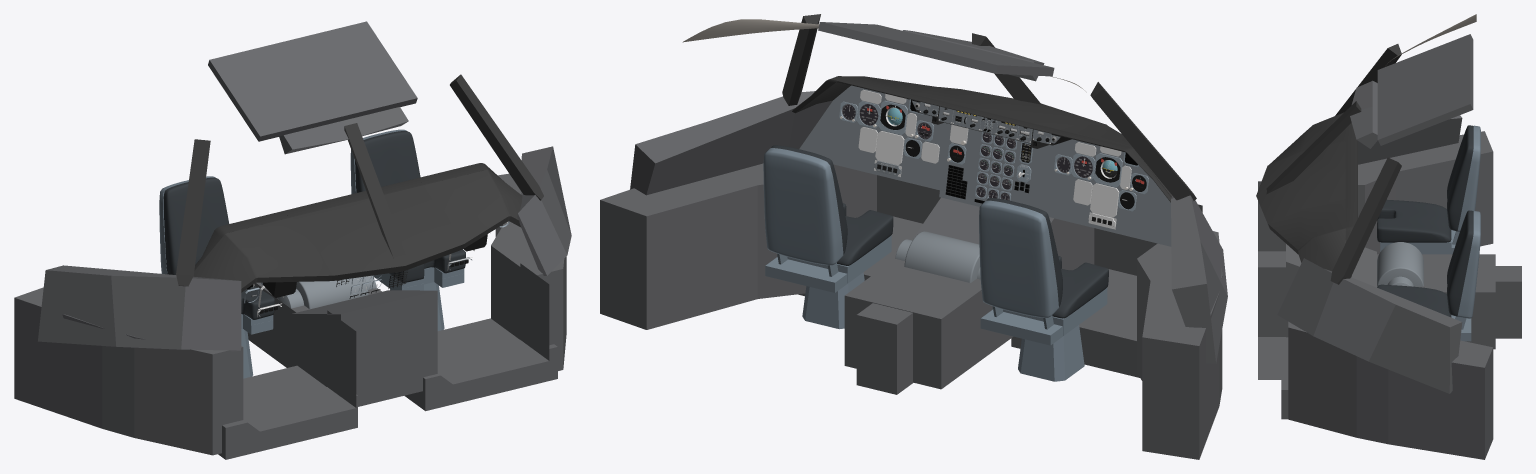
Rendered from L1011-100_Interior_01.gltf.
The picture shows the model from 3 angles, left to right: view 1: azimuth 30°, elevation 25°; view 2: azimuth 150°, elevation 25°; view 3: azimuth 270°, elevation 25°; orthographic projection. The views are drawn at different scales.
Visible parts, largest first — view 1: Cube.083, Cube.019, Cube.085, Cube.015, Cube.013, Cube.119, Cube.120, Cube.123, Cube.084, Cube.014, Cube.086, Cube.018 (+8 smaller); view 2: Cube.083, Cube.085, Cube.125, Plane.034, Cube.018, Cube.120, Cube.019, Cube.017, Cube.015, Cube.115, Cube.084, Cube.119 (+14 smaller); view 3: Cube.083, Cube.085, Cube.019, Cube.015, Cube.120, Cube.126, Cube.084, Cube.123, Cube.018, Cube.125, Cube.017, Cylinder (+9 smaller).
Part boxes in pixels (left/top/right/bottom): Cube.083: left=14, top=173, right=566, bottom=455; Cube.019: left=193, top=170, right=522, bottom=292; Cube.085: left=38, top=146, right=571, bottom=351; Cube.015: left=208, top=21, right=417, bottom=141; Cube.013: left=291, top=290, right=437, bottom=406; Cube.119: left=218, top=318, right=557, bottom=459; Cube.120: left=243, top=263, right=549, bottom=431; Cube.123: left=163, top=131, right=420, bottom=274; Cube.084: left=176, top=74, right=543, bottom=286; Cube.014: left=279, top=107, right=408, bottom=154; Cube.086: left=344, top=123, right=406, bottom=258; Cube.018: left=247, top=282, right=381, bottom=367; Cube.083: left=600, top=163, right=1222, bottom=459; Cube.085: left=630, top=91, right=1227, bottom=363; Cube.125: left=763, top=148, right=1058, bottom=317; Plane.034: left=799, top=85, right=1171, bottom=246; Cube.018: left=844, top=258, right=1013, bottom=389; Cube.120: left=844, top=149, right=1202, bottom=307; Cube.019: left=796, top=76, right=1171, bottom=197; Cube.017: left=856, top=303, right=913, bottom=394; Cube.015: left=818, top=22, right=1054, bottom=76; Cube.115: left=802, top=272, right=1084, bottom=381; Cube.084: left=782, top=14, right=1196, bottom=200; Cube.119: left=798, top=248, right=1139, bottom=377; Cube.083: left=1288, top=131, right=1493, bottom=459; Cube.085: left=1277, top=115, right=1462, bottom=393; Cube.019: left=1256, top=112, right=1345, bottom=271; Cube.015: left=1377, top=34, right=1473, bottom=145; Cube.120: left=1258, top=181, right=1288, bottom=379; Cube.126: left=1377, top=200, right=1451, bottom=317; Cube.084: left=1330, top=44, right=1401, bottom=284; Cube.123: left=1447, top=125, right=1473, bottom=316; Cube.018: left=1377, top=254, right=1495, bottom=349; Cube.125: left=1457, top=125, right=1480, bottom=318; Cube.017: left=1495, top=266, right=1521, bottom=338; Cylinder: left=1377, top=242, right=1423, bottom=286.
Size of the model in its own units: 3.68 by 2 by 1.74.
